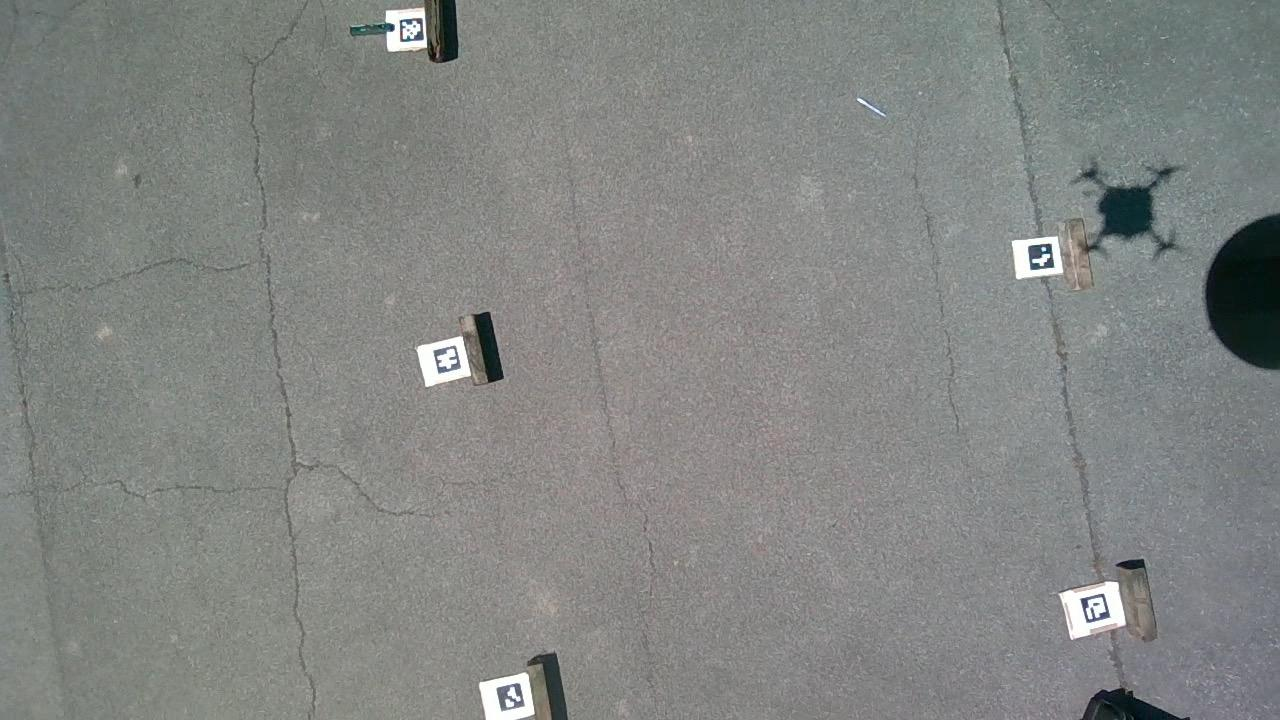probes: (856, 97, 887, 118)
